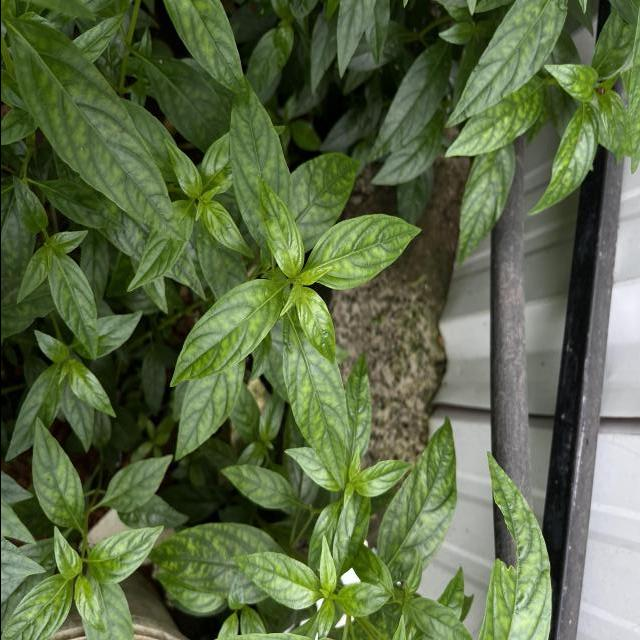Andrographis paniculata: (2, 14, 186, 244), (374, 413, 458, 584), (168, 278, 286, 390), (162, 0, 252, 108), (304, 212, 422, 292), (280, 356, 348, 490), (440, 80, 548, 162), (523, 106, 600, 218), (454, 142, 515, 269), (172, 365, 245, 462), (30, 416, 86, 530), (44, 254, 100, 363), (229, 550, 318, 611), (254, 172, 304, 280), (83, 522, 164, 586), (220, 464, 296, 512), (61, 361, 119, 419), (200, 200, 256, 260), (160, 137, 203, 200), (352, 459, 412, 499), (541, 62, 598, 102)
